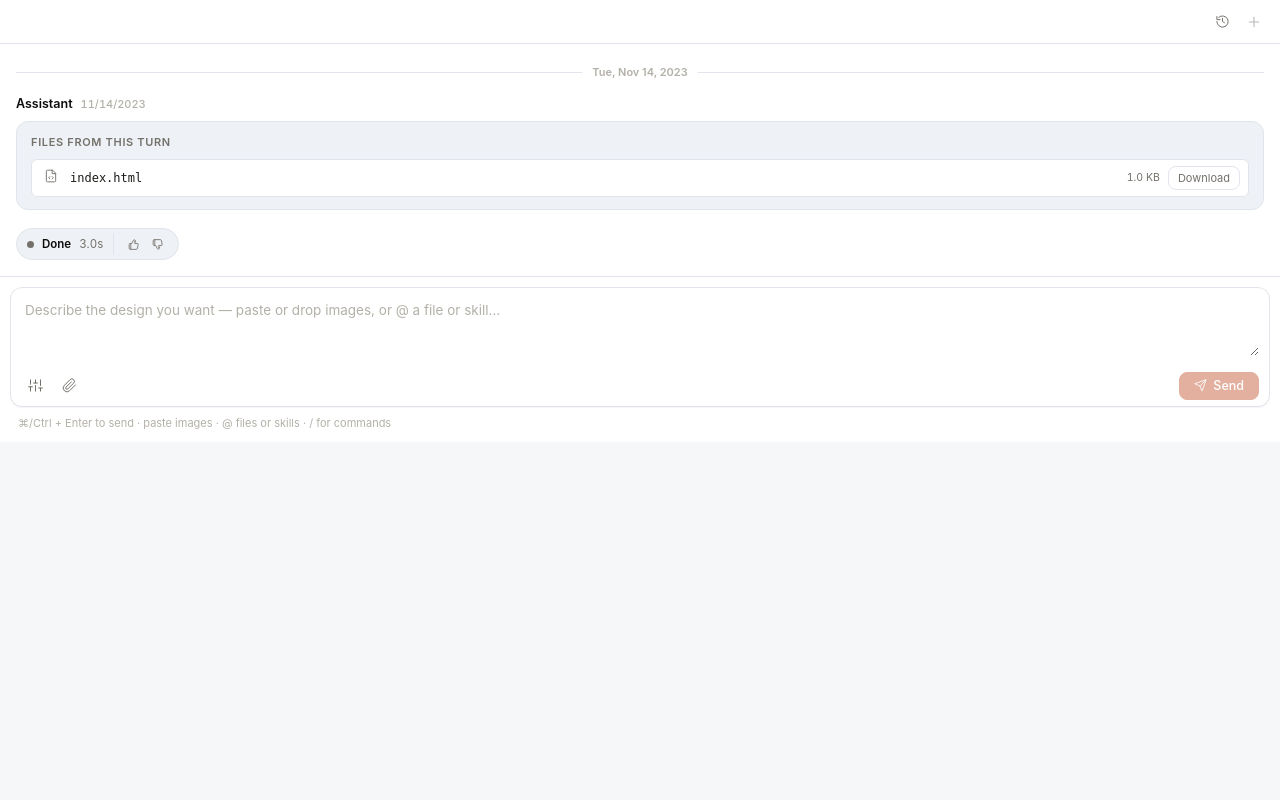
Test case: chat assistant feedback › collects preset and custom reasons after a rating is selected
Step 1. Click the button named "Helpful" → (133, 244), box [122, 233, 144, 255]
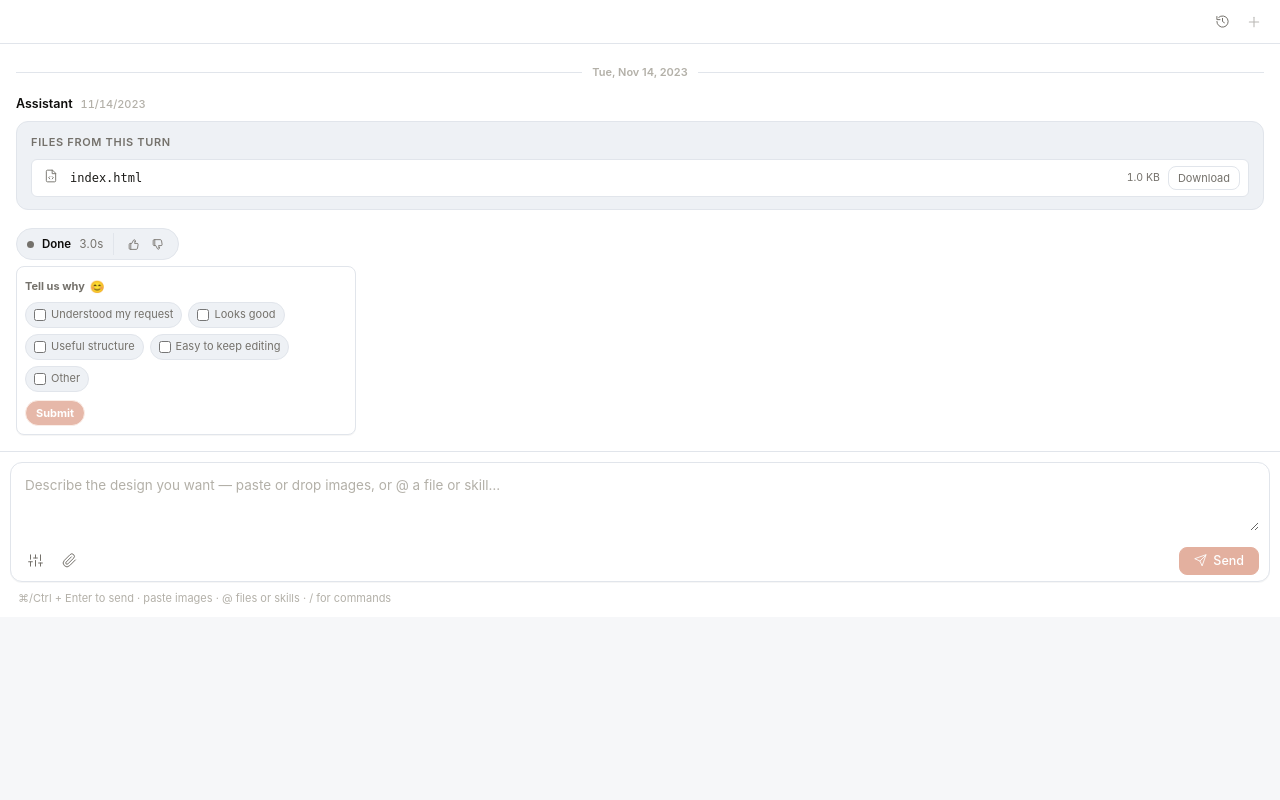
Now the text "Tell us why" is shown, box [25, 278, 85, 295]
Now the text "😊" is shown, box [90, 280, 105, 292]
Step 2. Click the checkbox labelled "Understood my request" → (40, 315), box [34, 309, 46, 321]
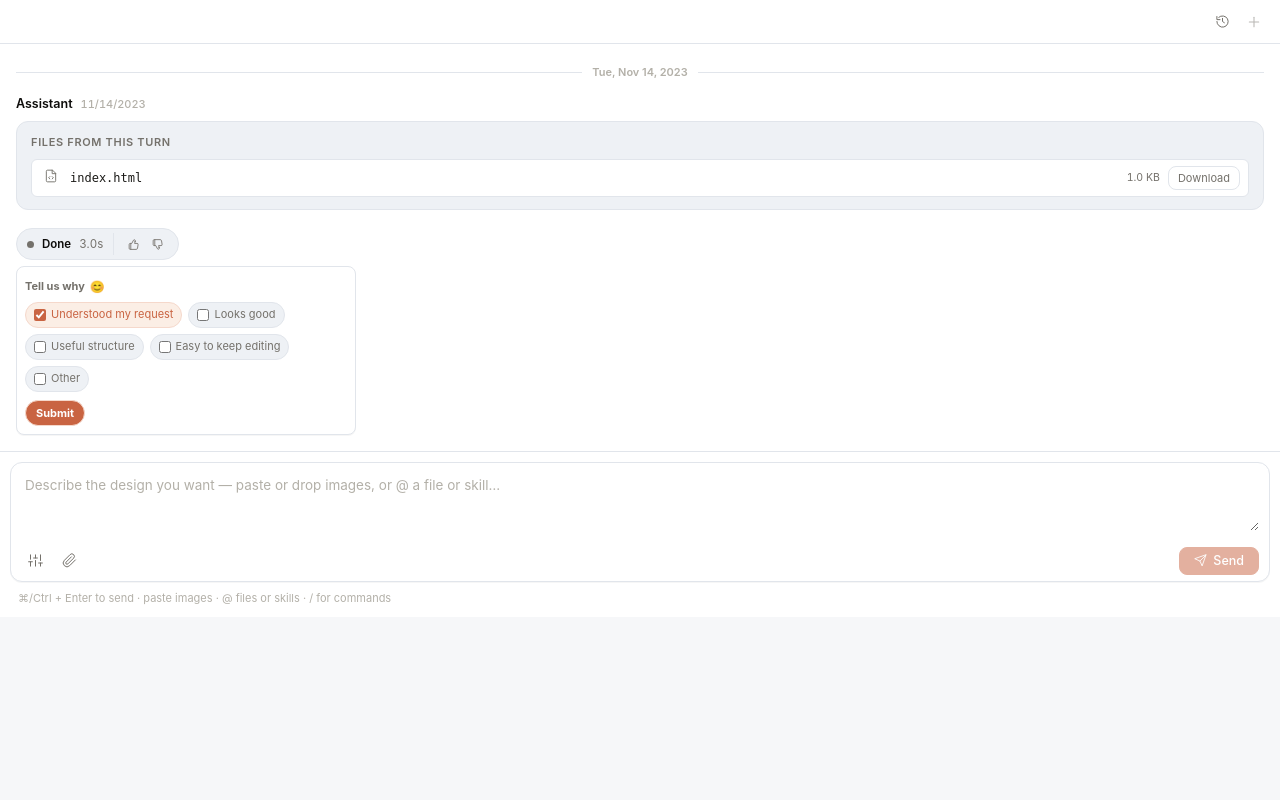
Step 3. Click the checkbox labelled "Other" → (40, 379), box [34, 373, 46, 385]
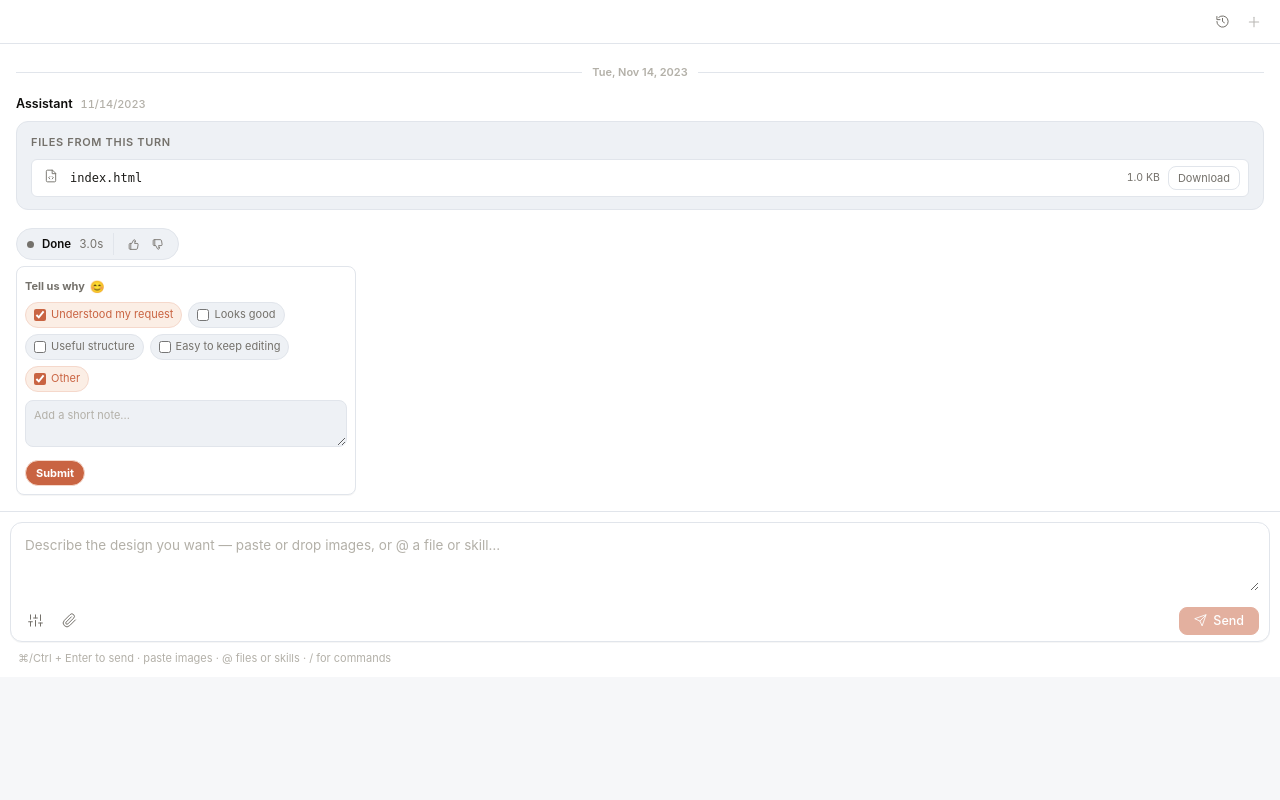
Step 4. Type "The layout is ready to present." into the text box with placeholder "Add a short note..." → (186, 423), box [25, 400, 347, 447]
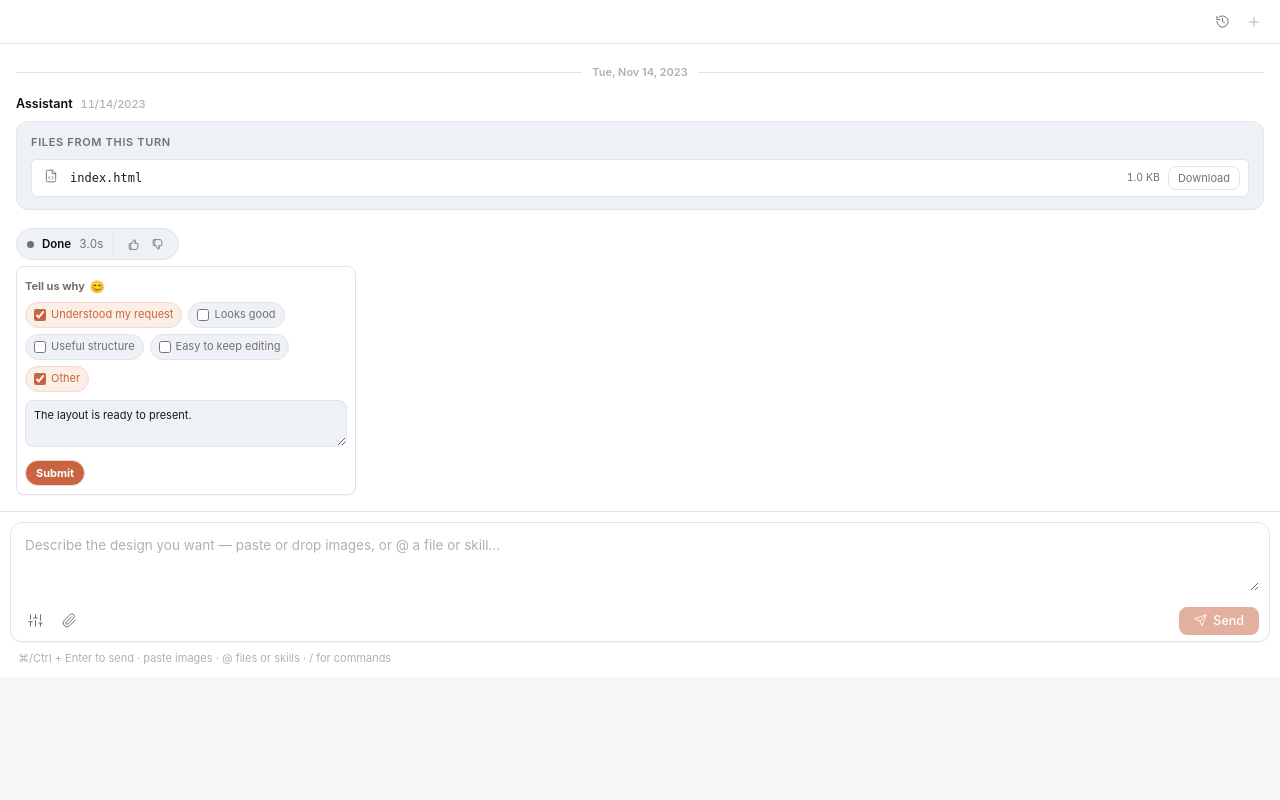
Step 5. Click the button "Submit" → (55, 473), box [25, 460, 85, 486]
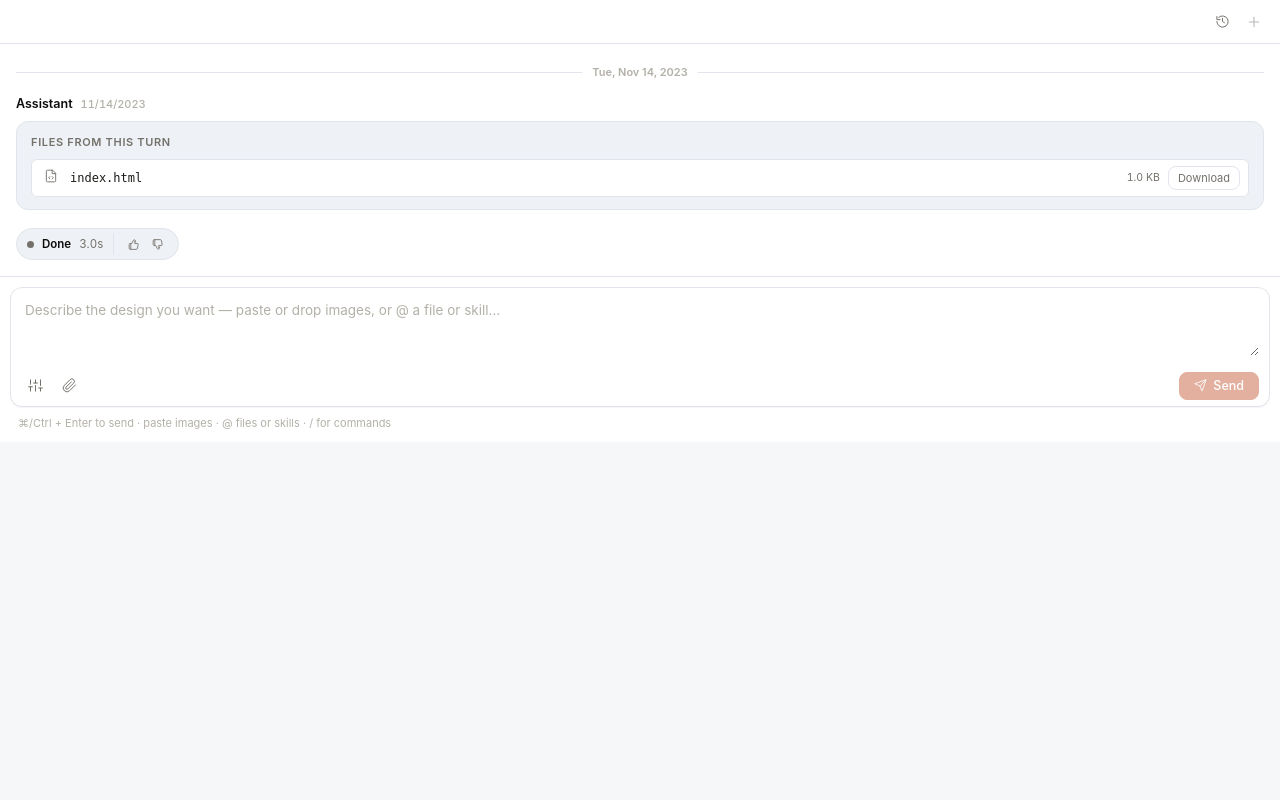
Now the text "Tell us why" is gone
